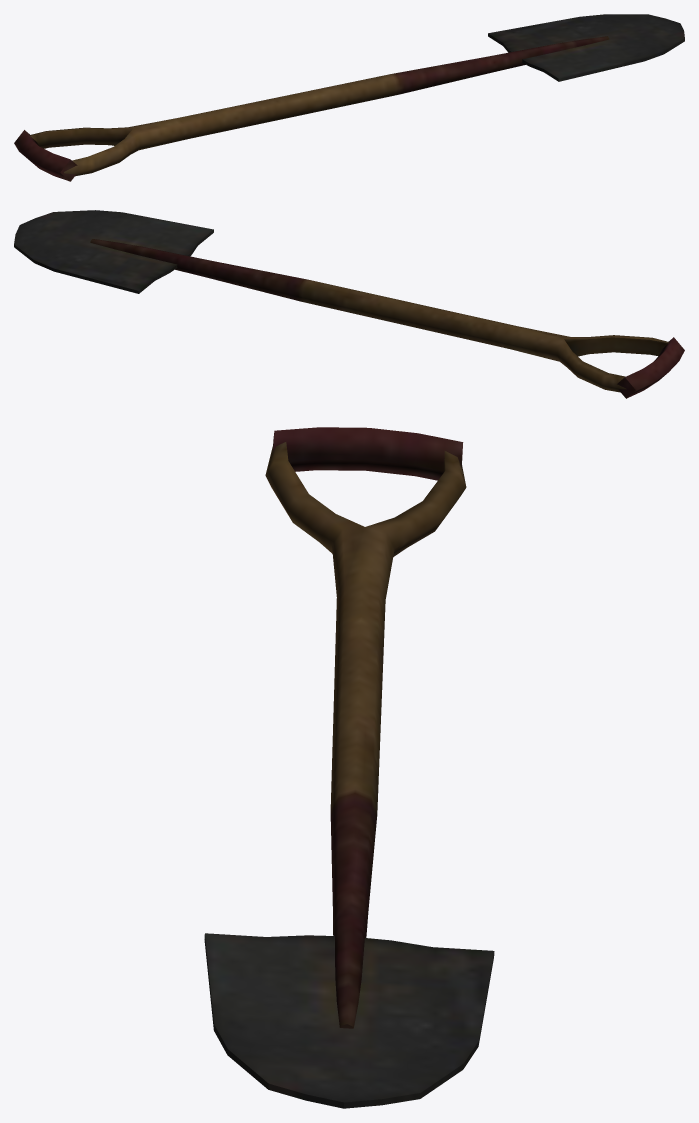
Rendered from Shovel.FBX.
3 renders of one model, top to bottom at view 1: azimuth 30°, elevation 25°; view 2: azimuth 150°, elevation 25°; view 3: azimuth 270°, elevation 25°, orthographic. The views are drawn at different scales.
Parts seen in each view (by area): view 1: Shovel; view 2: Shovel; view 3: Shovel.
Part boxes in pixels (x1=…): Shovel: x1=14, y1=14, x2=684, y2=181; Shovel: x1=14, y1=210, x2=684, y2=398; Shovel: x1=204, y1=427, x2=494, y2=1108.
Size of the model in its own units: 104 by 5.39 by 20.29.
